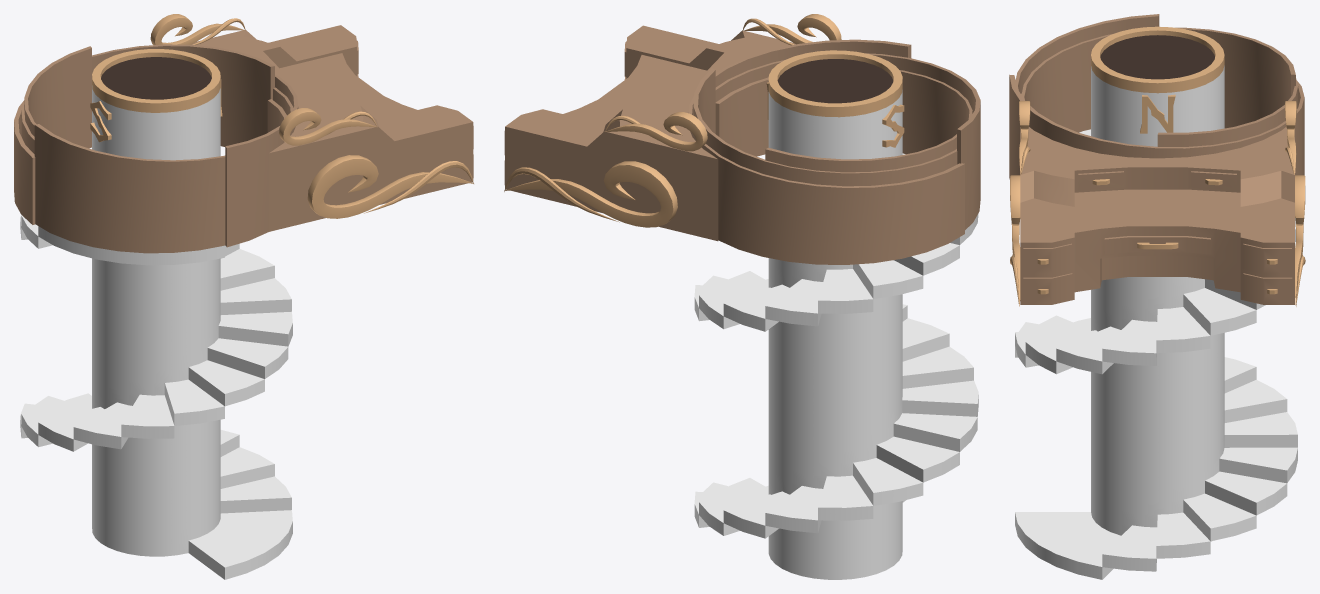
File: AppGameTable (2).fbx
3 renders of one model, left to right at view 1: azimuth 30°, elevation 25°; view 2: azimuth 150°, elevation 25°; view 3: azimuth 270°, elevation 25°, orthographic. The views are drawn at different scales.
Visible parts, largest first — view 1: Circle, Cube, Cube.020, Cube.017, Cube.021, Cube.022, NurbsPath.001, NurbsPath, Plane.002; view 2: Circle, Cube, Cube.017, Cube.022, Cube.021, NurbsPath.001, Cube.020, NurbsPath; view 3: Circle, Cube, Cube.022, Cube.017, Cube.020, NurbsPath.001, Cube.021, NurbsPath, Plane.002.
Boxes of the visible parts, left/top/right/bottom form: Circle: left=20, top=49, right=292, bottom=579; Cube: left=192, top=25, right=473, bottom=231; Cube.020: left=34, top=87, right=293, bottom=253; Cube.017: left=14, top=74, right=298, bottom=247; Cube.021: left=21, top=44, right=274, bottom=153; Cube.022: left=24, top=46, right=286, bottom=148; NurbsPath.001: left=307, top=155, right=473, bottom=218; NurbsPath: left=150, top=14, right=377, bottom=145; Plane.002: left=90, top=79, right=222, bottom=142; Circle: left=694, top=50, right=978, bottom=579; Cube: left=504, top=25, right=795, bottom=241; Cube.017: left=689, top=39, right=964, bottom=264; Cube.022: left=715, top=70, right=972, bottom=172; Cube.021: left=693, top=68, right=957, bottom=186; NurbsPath.001: left=504, top=161, right=677, bottom=227; Cube.020: left=693, top=53, right=980, bottom=229; NurbsPath: left=605, top=14, right=841, bottom=151; Circle: left=1015, top=26, right=1297, bottom=579; Cube: left=1020, top=127, right=1294, bottom=304; Cube.022: left=1021, top=27, right=1295, bottom=132; Cube.017: left=1009, top=74, right=1304, bottom=179; Cube.020: left=1015, top=14, right=1159, bottom=93; NurbsPath.001: left=1010, top=175, right=1305, bottom=306; Cube.021: left=1021, top=78, right=1298, bottom=146; NurbsPath: left=1019, top=101, right=1296, bottom=174; Plane.002: left=1140, top=94, right=1175, bottom=133.
Size of the model in its own units: 1384 by 1581 by 903.
